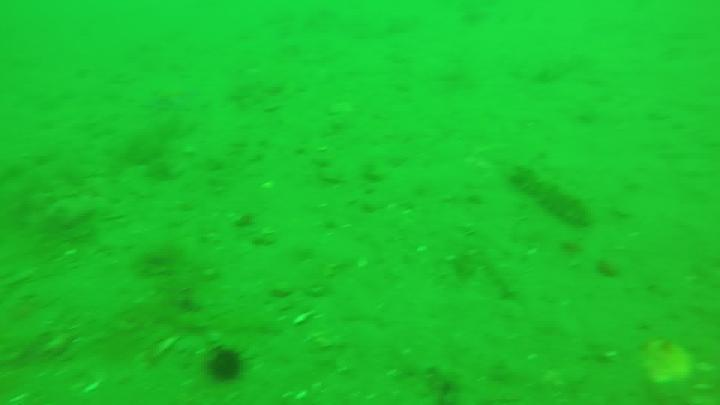echinus: (210, 347, 248, 383)
holothurian: (511, 165, 592, 231)
scallop: (651, 341, 695, 393)
